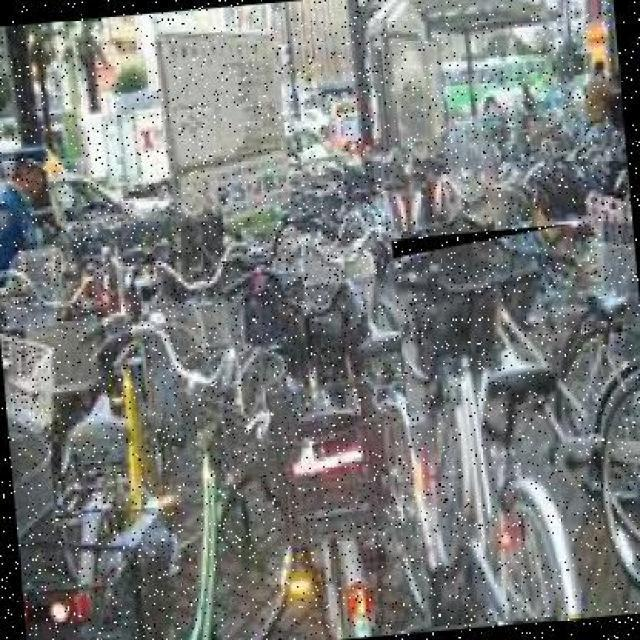bicycle: (391, 225, 607, 629)
